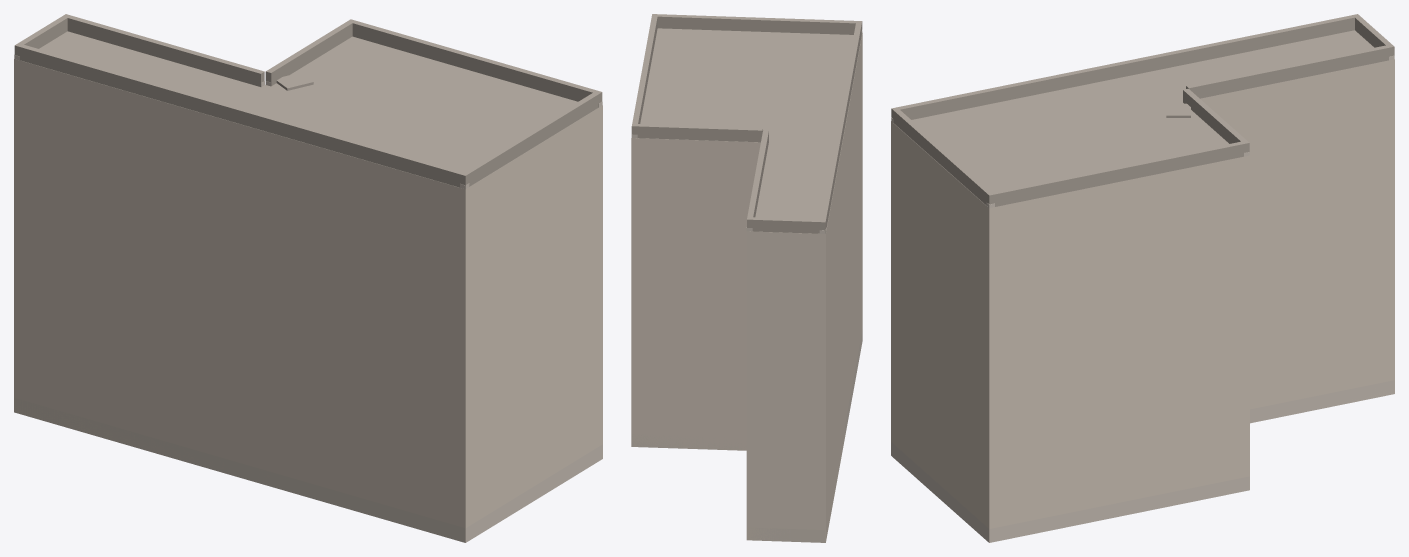
File: cop_misto_loja_terrea_01__way_586972700.fbx
3 renders of one model, left to right at view 1: azimuth 30°, elevation 25°; view 2: azimuth 150°, elevation 25°; view 3: azimuth 270°, elevation 25°, orthographic. The views are drawn at different scales.
Parts seen in each view (by area): view 1: cop_misto_loja_terrea_01__way_586972700_wall, cop_misto_loja_terrea_01__way_586972700_roof, cop_misto_loja_terrea_01__way_586972700_stone; view 2: cop_misto_loja_terrea_01__way_586972700_wall, cop_misto_loja_terrea_01__way_586972700_roof, cop_misto_loja_terrea_01__way_586972700_stone; view 3: cop_misto_loja_terrea_01__way_586972700_wall, cop_misto_loja_terrea_01__way_586972700_roof, cop_misto_loja_terrea_01__way_586972700_stone.
Part boxes in pixels (x1=…): cop_misto_loja_terrea_01__way_586972700_wall: x1=14, y1=59, x2=602, y2=542; cop_misto_loja_terrea_01__way_586972700_roof: x1=14, y1=14, x2=602, y2=188; cop_misto_loja_terrea_01__way_586972700_stone: x1=14, y1=55, x2=602, y2=542; cop_misto_loja_terrea_01__way_586972700_wall: x1=631, y1=33, x2=862, y2=542; cop_misto_loja_terrea_01__way_586972700_roof: x1=631, y1=14, x2=862, y2=233; cop_misto_loja_terrea_01__way_586972700_stone: x1=632, y1=30, x2=862, y2=542; cop_misto_loja_terrea_01__way_586972700_wall: x1=891, y1=59, x2=1394, y2=542; cop_misto_loja_terrea_01__way_586972700_roof: x1=891, y1=14, x2=1394, y2=206; cop_misto_loja_terrea_01__way_586972700_stone: x1=891, y1=55, x2=1394, y2=542.
Size of the model in its own units: 2099 by 1869 by 2457.
